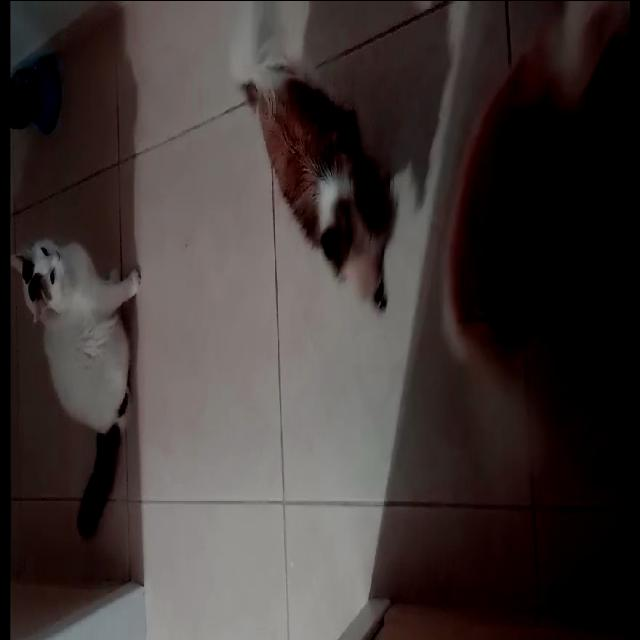Pedrita: (228, 1, 406, 357)
Theo: (388, 1, 640, 409)
